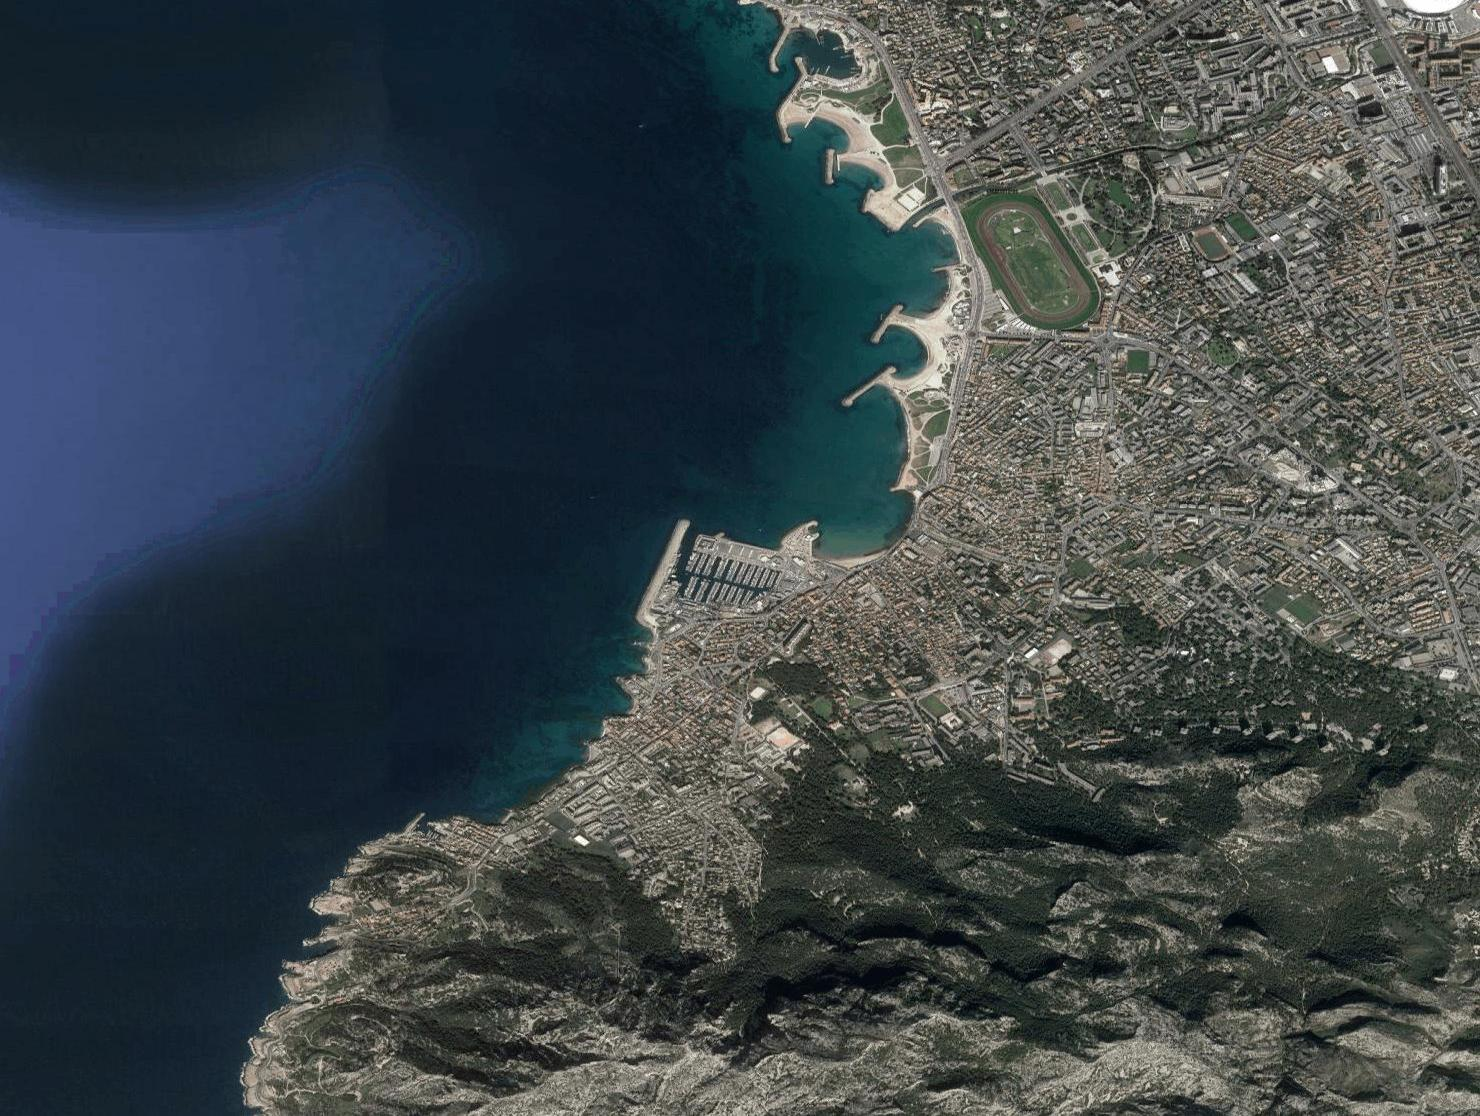harbor: (613, 503, 850, 656), (758, 11, 877, 103)
motorway: (937, 329, 983, 437), (952, 217, 993, 328), (877, 48, 921, 135), (918, 132, 962, 219)
